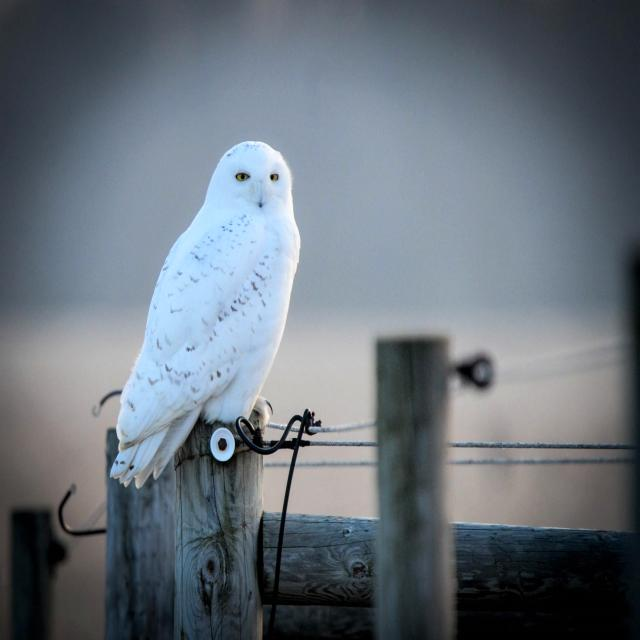owl: (110, 141, 300, 488)
